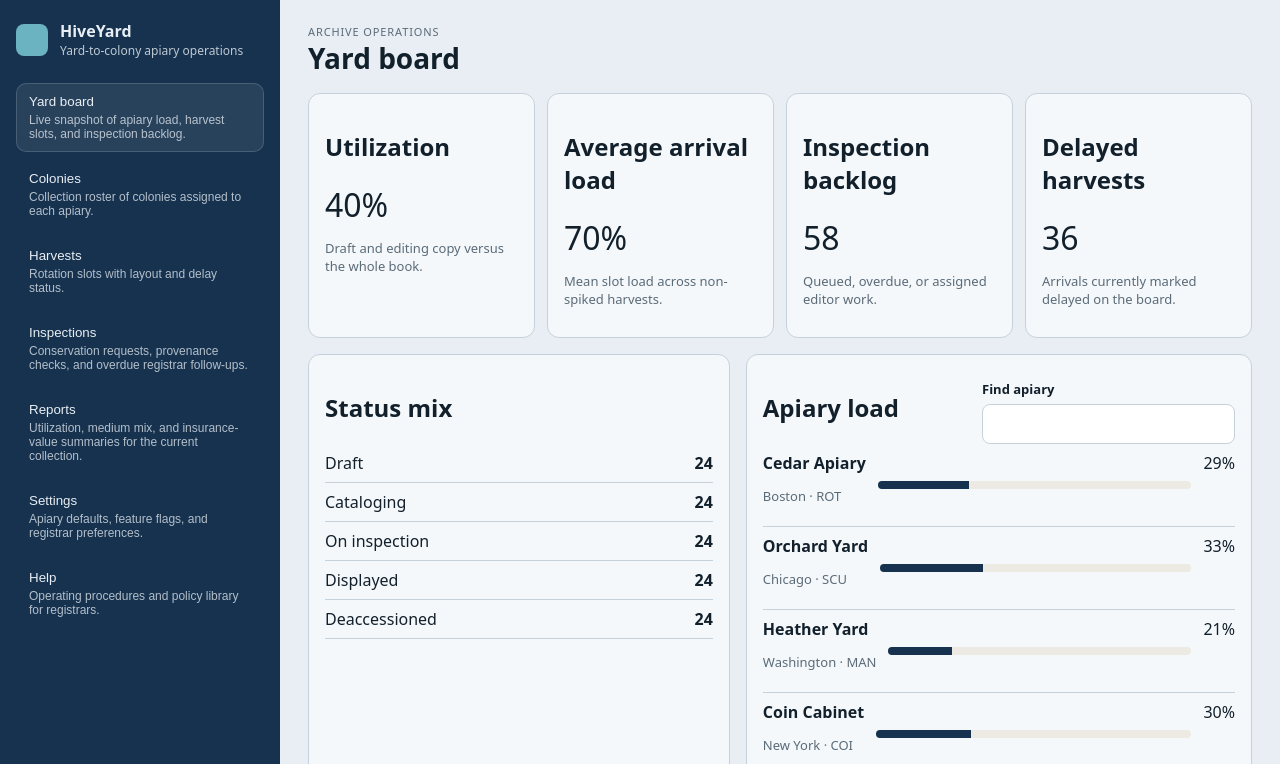
HiveYardApp › opens the colonies workspace from the sidebar
Expected: the text "Yard-to-colony apiary operations" is shown, [60, 42, 243, 59]
Click the button "Colonies" at coordinates (140, 194), box [16, 160, 264, 229]
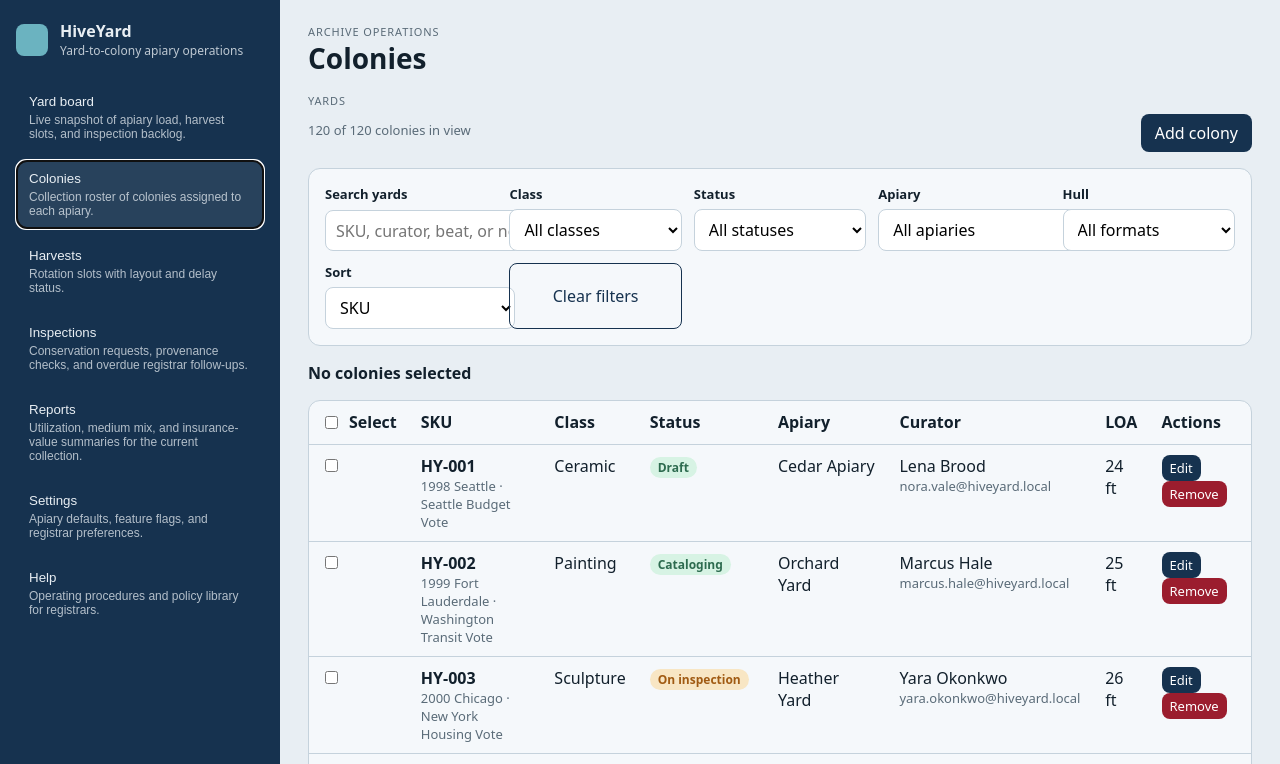
Expected: the search field labelled "Search yards" is shown, [325, 210, 578, 251]
